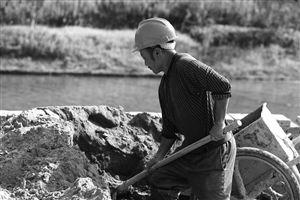helmet: (132, 17, 180, 55)
